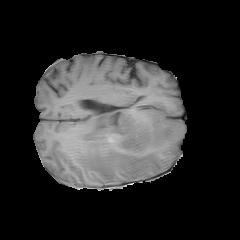glioma: (73, 109, 173, 183)
